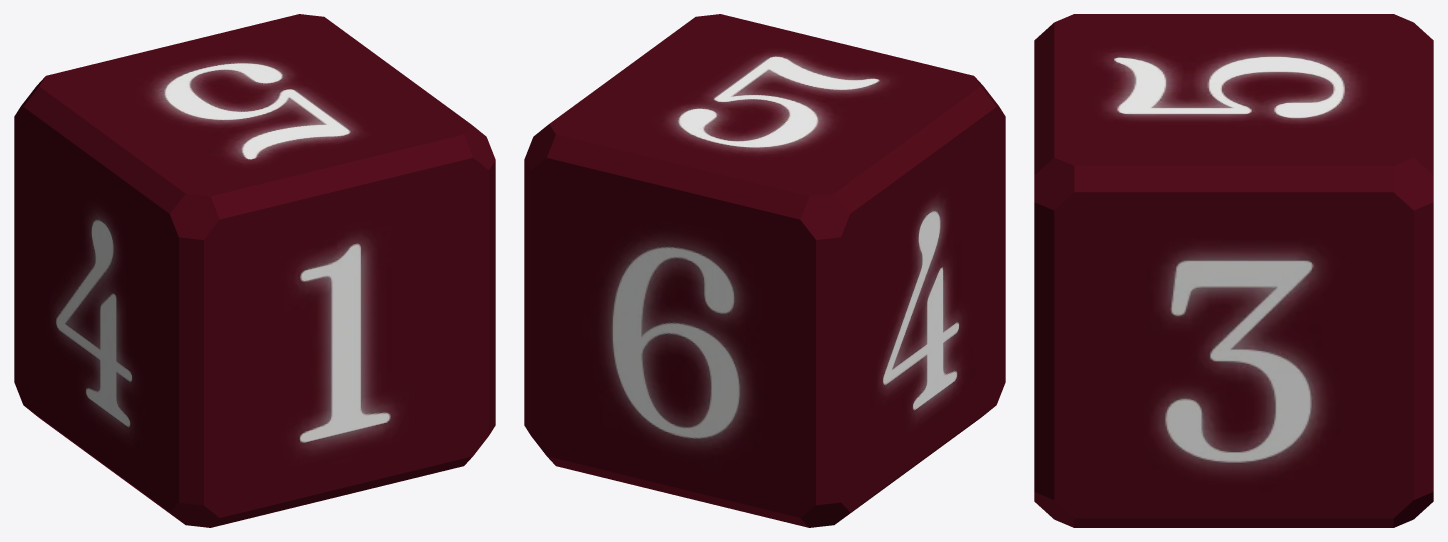
Rendered from D6Disadvantage.glb.
3 renders of one model, left to right at view 1: azimuth 30°, elevation 25°; view 2: azimuth 150°, elevation 25°; view 3: azimuth 270°, elevation 25°, orthographic. The views are drawn at different scales.
Parts seen in each view (by area): view 1: D6Disadvantage; view 2: D6Disadvantage; view 3: D6Disadvantage.
Part boxes in pixels (box(x1,y1,x2,y2)): D6Disadvantage: box(14, 14, 495, 527); D6Disadvantage: box(524, 14, 1005, 527); D6Disadvantage: box(1034, 14, 1433, 527).
Bounding box in the file's own units: 2 × 2 × 2.
Materials: 1 (1 with a texture image).
